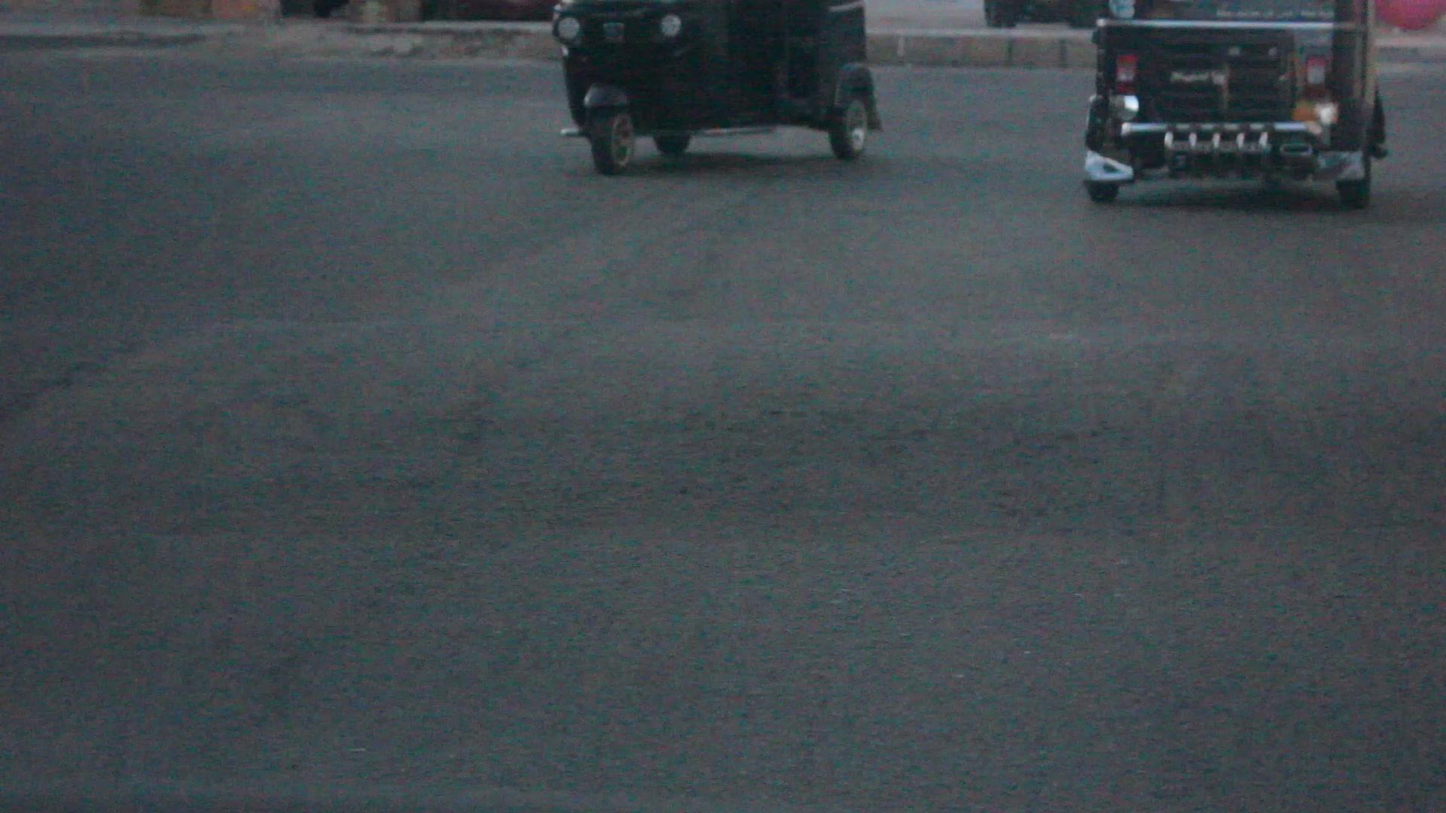Bump: (0, 297, 1446, 521)
